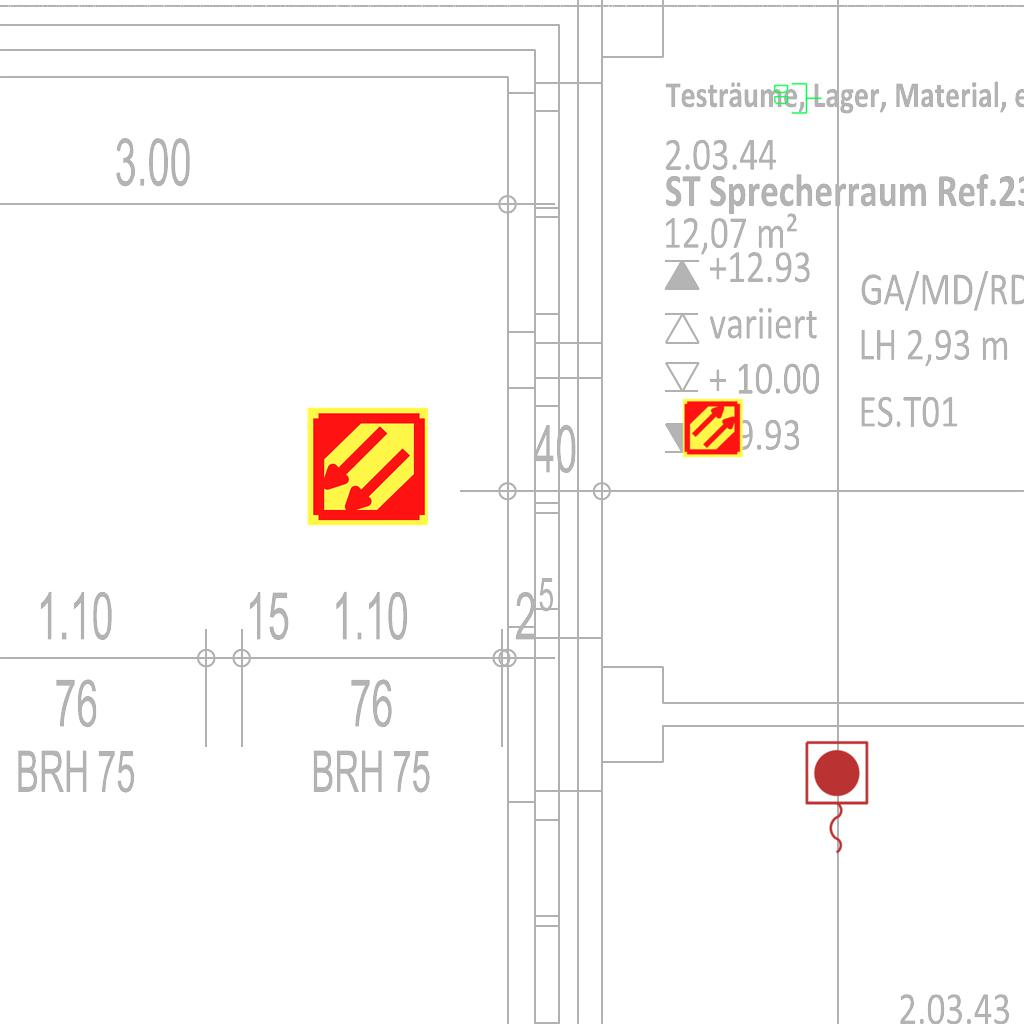ASR_Ansaugrauchmelder: (305, 404, 430, 529), (682, 397, 744, 459)
Datenanschluss_zweifach: (772, 81, 823, 115)
Zugtaster: (800, 737, 872, 859)
